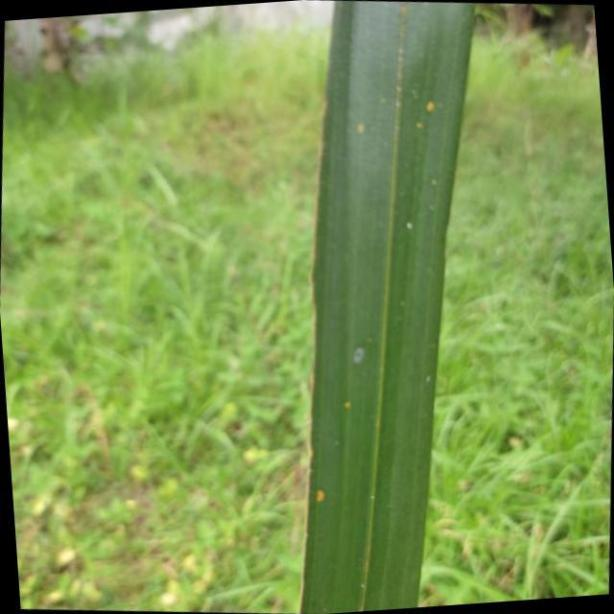Kalium: (305, 0, 476, 614)
